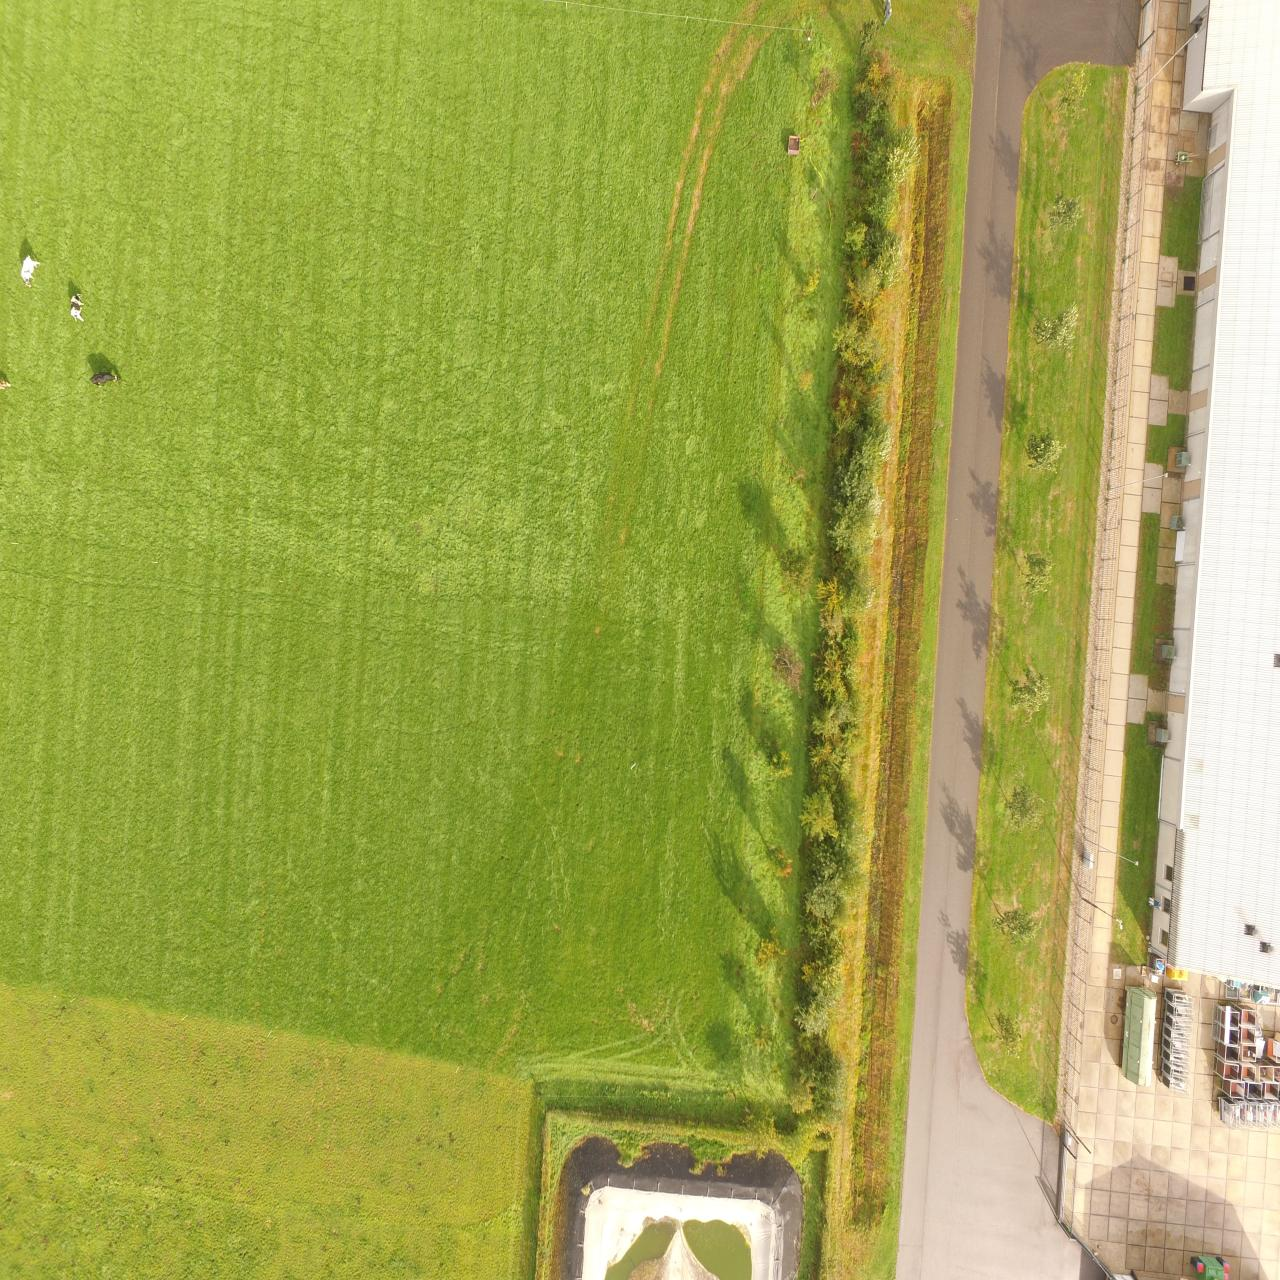cow: (20, 254, 41, 288), (90, 372, 123, 388), (70, 292, 86, 322), (0, 376, 11, 389)
